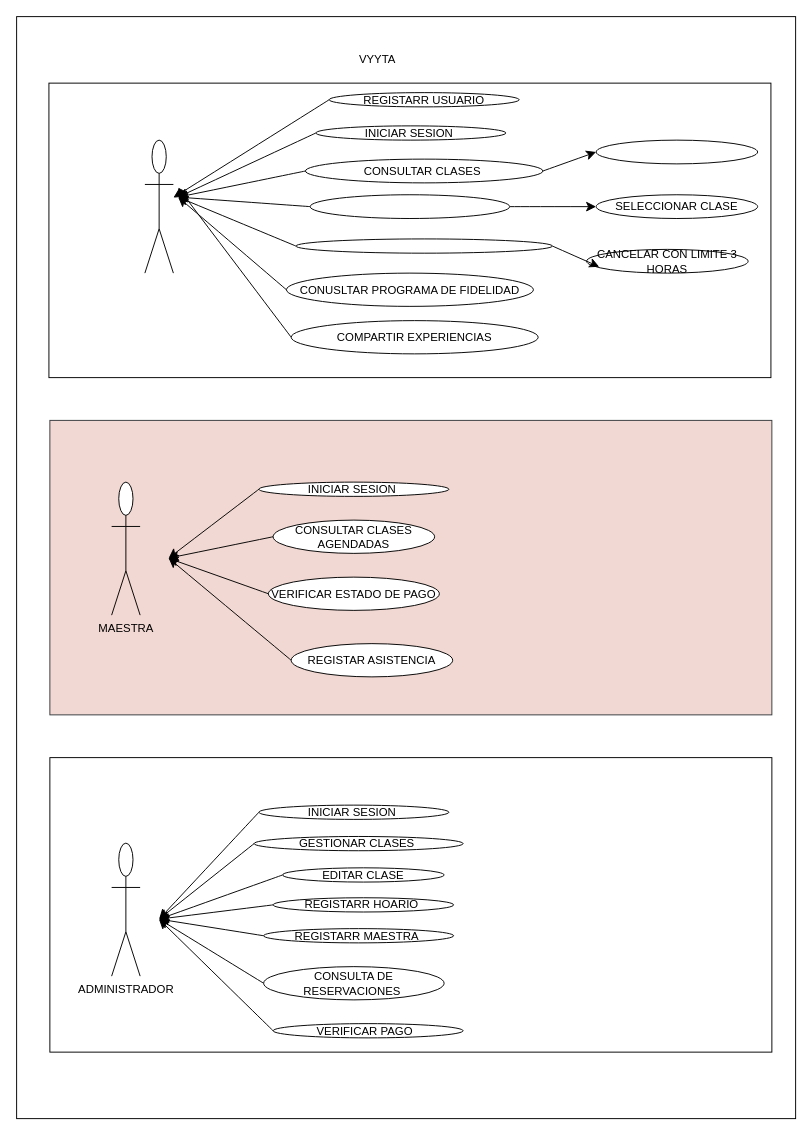
Image size: 812x1135. Some labels were removed from this diagram. The box of each missing label's shape, as (x1, y1, x2, y2) in pixels:
CANCELAR RESERVACION: (295, 238, 552, 253)
CLIENTE: (144, 139, 173, 273)
RESERVAR CLASES: (309, 194, 510, 218)
VER HORARIOS,CUPOS Y MAESTRAS: (595, 139, 758, 164)
